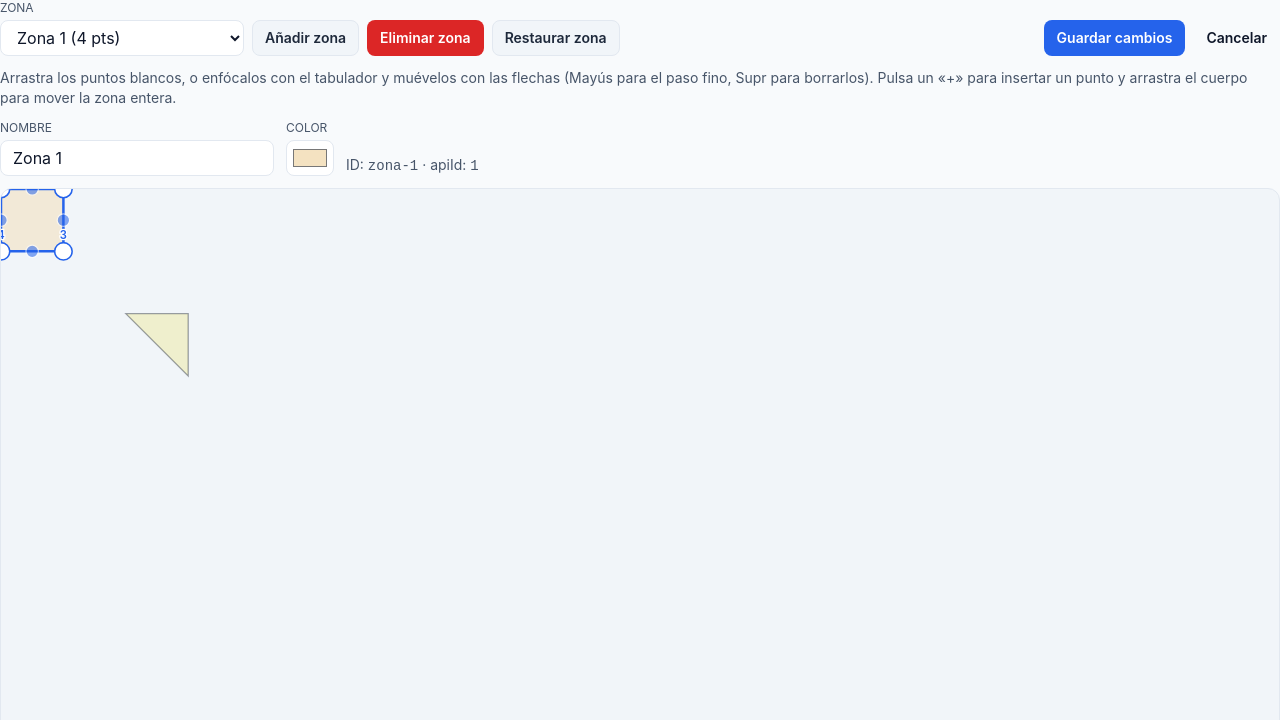
adversarial · el editor bajo presión › Escape NO cierra el editor mientras hay un diálogo abierto
Click the button "Añadir zona" at [306, 38], box [252,20,359,56]
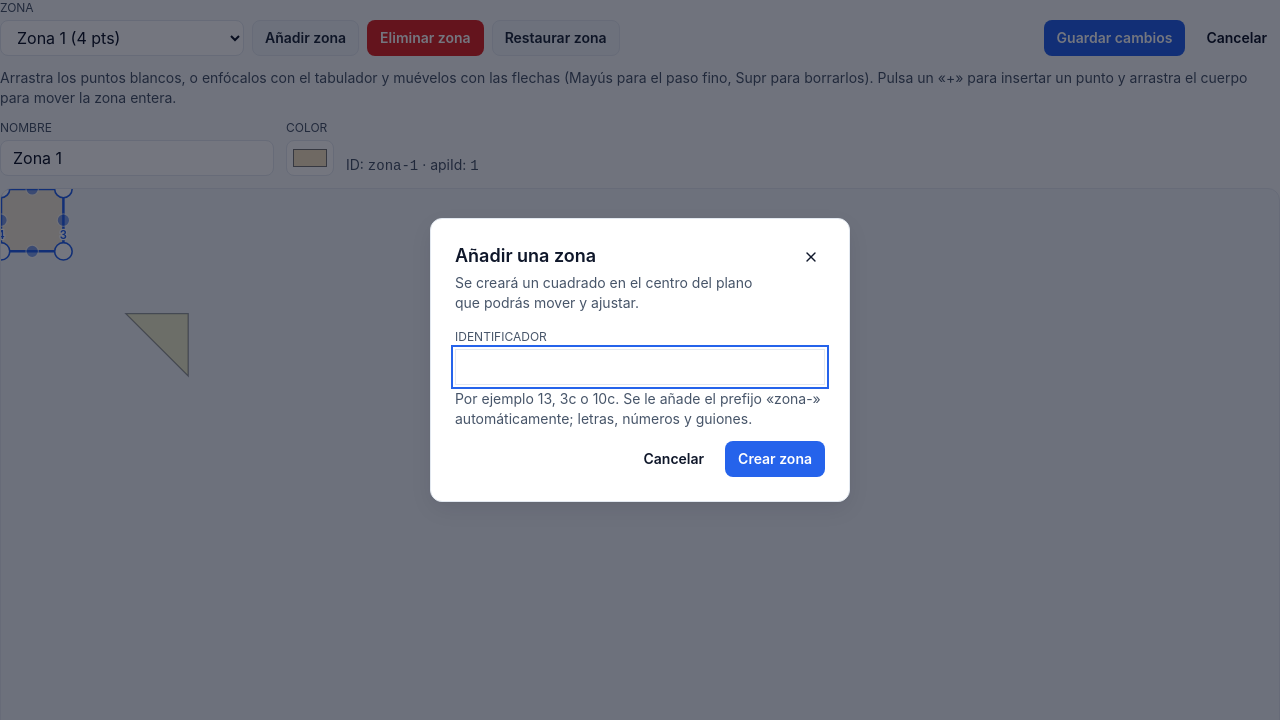
Expected: the dialog is shown, [430,218,850,502]
Press Escape
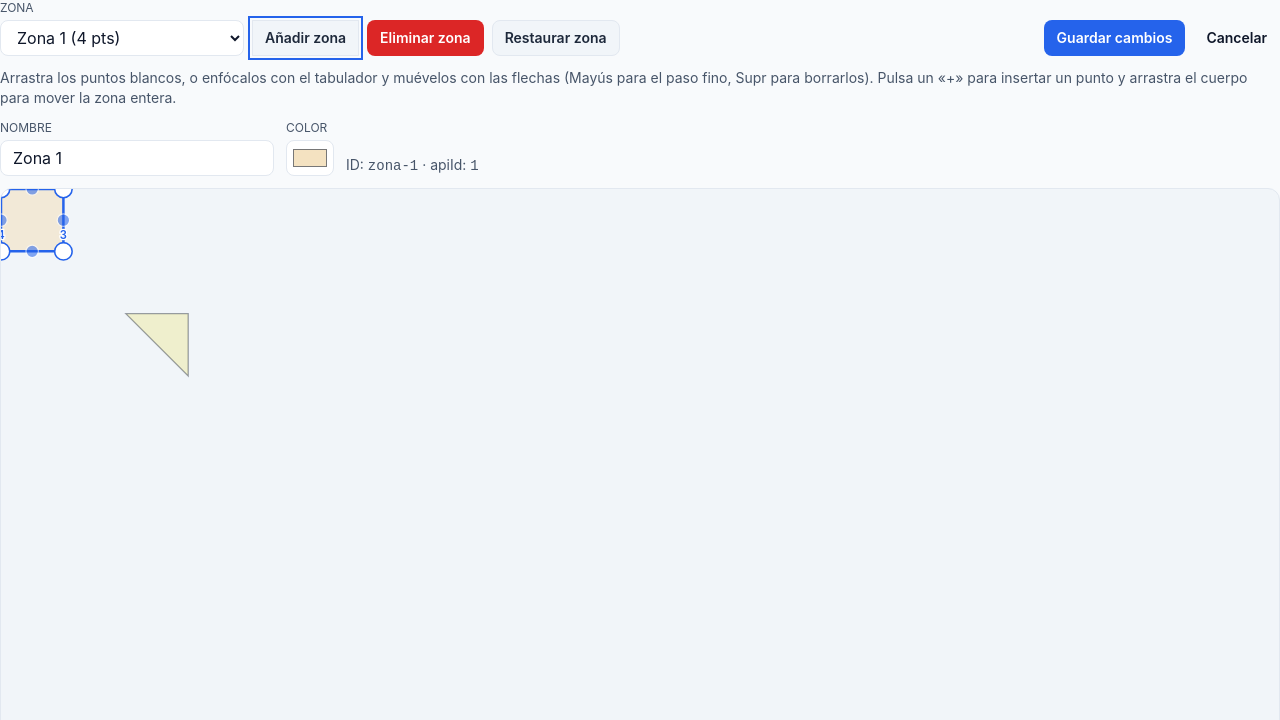
Expected: the dialog is gone
